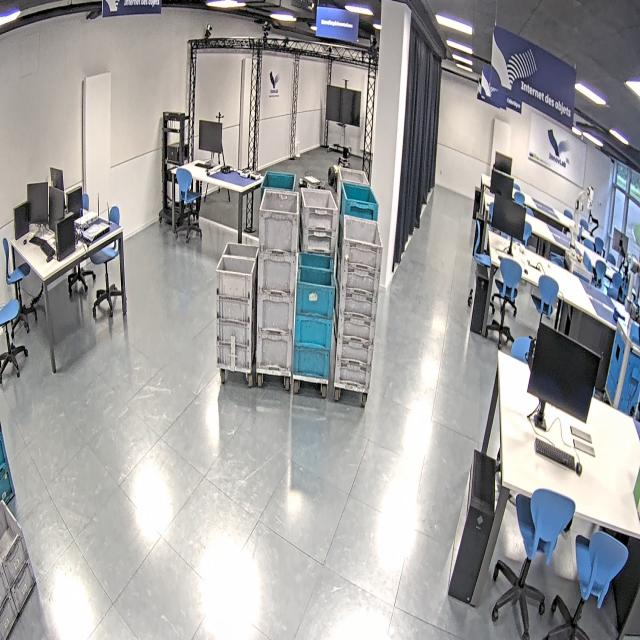Box3G: (342, 213, 383, 272), (340, 252, 380, 302), (299, 189, 339, 233), (339, 280, 379, 323), (338, 306, 377, 346), (334, 329, 374, 368), (332, 349, 372, 388), (300, 227, 337, 257)
Box4G: (259, 185, 299, 256), (258, 243, 300, 294), (256, 287, 296, 337), (256, 326, 295, 374), (337, 162, 371, 204)
Box8G: (217, 254, 256, 298), (215, 293, 253, 328), (216, 336, 254, 369), (215, 320, 254, 350), (223, 238, 259, 262)
BoxB4: (340, 184, 380, 225), (261, 171, 302, 195)
BoxB8: (296, 269, 340, 319), (292, 313, 336, 351), (290, 344, 335, 381), (298, 248, 334, 274)
